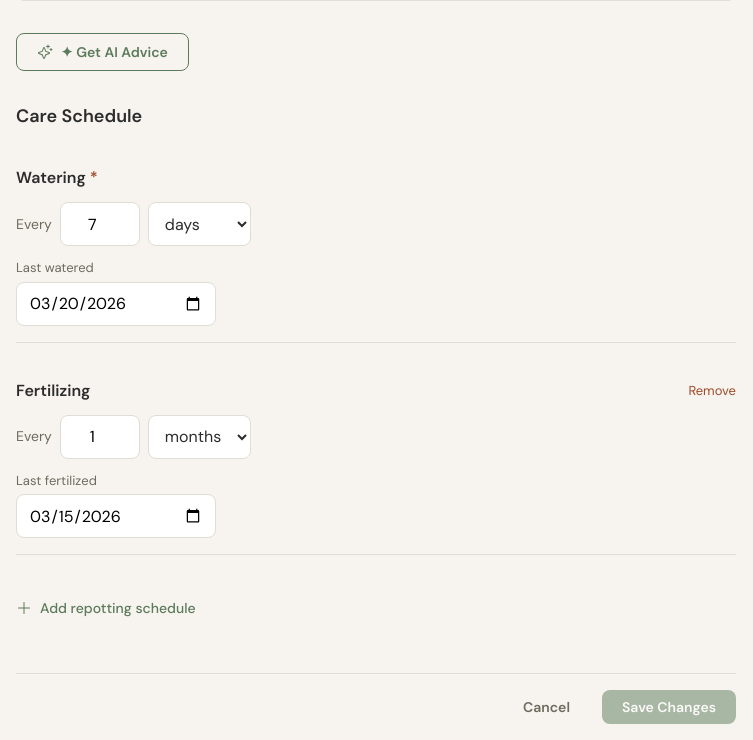
it: EditPlantPage › enables Save button when fertilizing last_done_at is changed
(page scrolled)
Expected: the button "Save Changes" is disabled, [602,690,736,724]
Change fertilizing last done date
Type "2026-03-22" into the date field with id "fertilizing-last-done" at x=116, y=516, box [16,494,216,538]
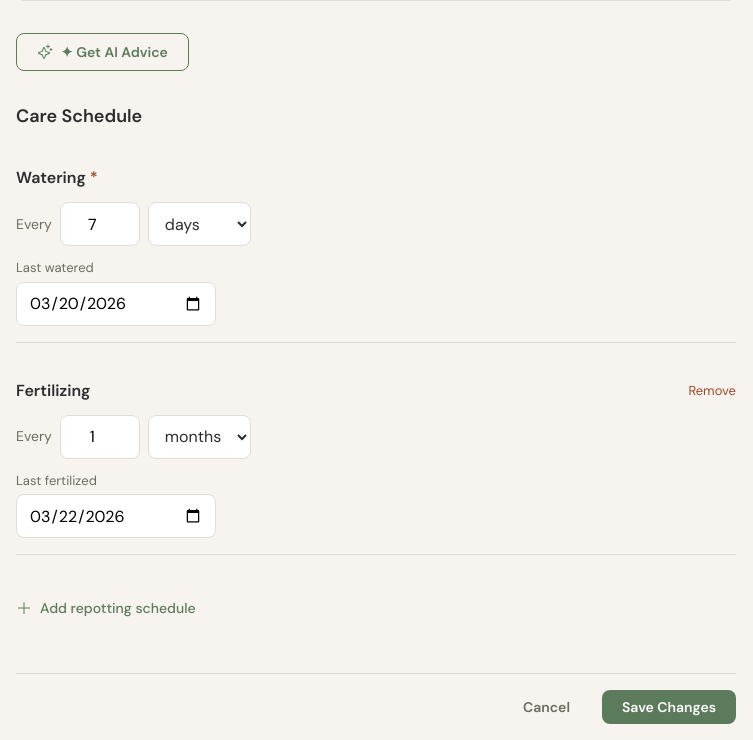
Expected: the button "Save Changes" is enabled, [602,690,736,724]
